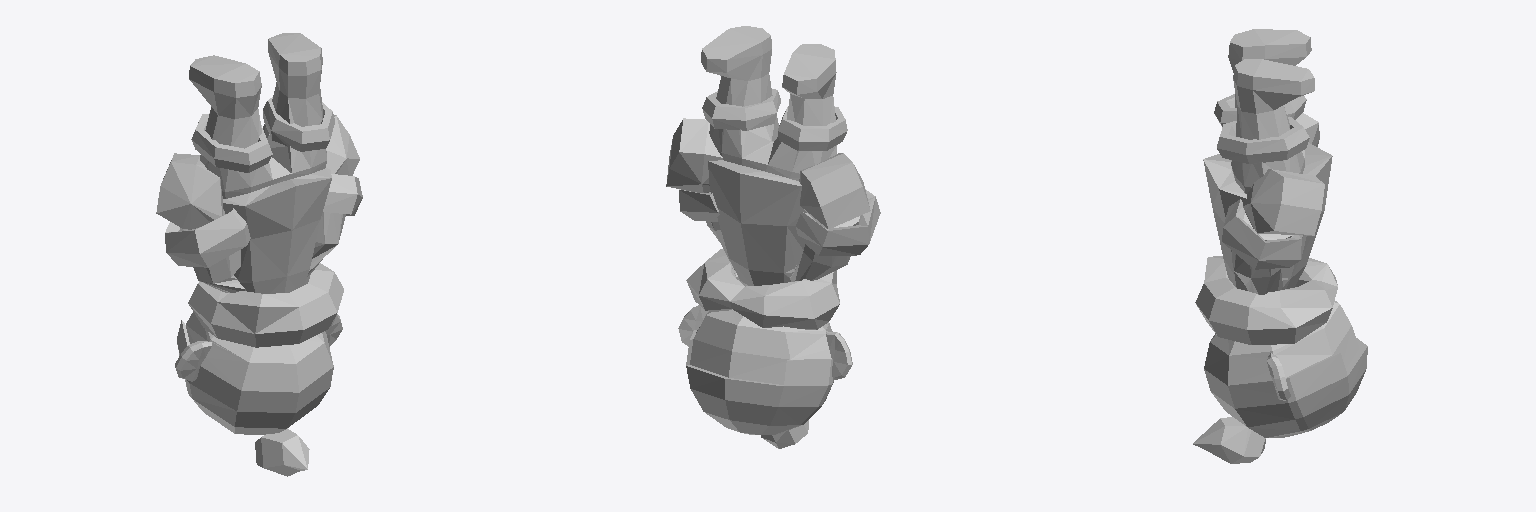
File: eikacomer_000120.obj
The picture shows the model from 3 angles: view 1: azimuth 30°, elevation 25°; view 2: azimuth 150°, elevation 25°; view 3: azimuth 270°, elevation 25°; orthographic projection.
Visible parts, largest first — view 1: Cylinder; view 2: Cylinder; view 3: Cylinder.
Boxes of the visible parts, <box> form: Cylinder: <box>156,33,362,476</box>; Cylinder: <box>666,26,880,448</box>; Cylinder: <box>1193,29,1367,463</box>.
Bounding box in the file's own units: 29.15 × 56.36 × 21.89.